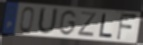0: (18, 6, 37, 35)
F: (115, 12, 138, 42)
G: (57, 9, 78, 37)
L: (98, 13, 114, 39)
U: (37, 6, 60, 37)
Z: (77, 11, 98, 38)
